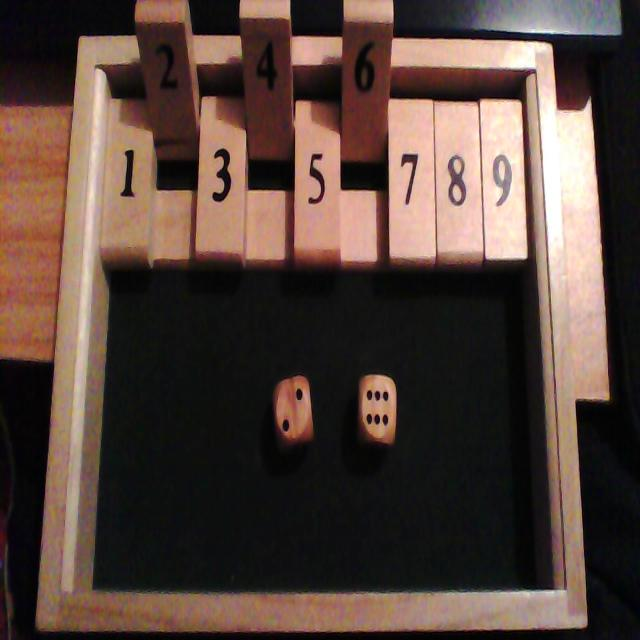2: (268, 368, 316, 450)
6: (355, 370, 399, 452)
C1: (101, 36, 150, 268)
C3: (196, 36, 242, 270)
C5: (297, 37, 341, 269)
C7: (392, 38, 438, 269)
C8: (435, 38, 484, 270)
C9: (479, 40, 530, 271)
O2: (135, 1, 197, 260)
O4: (239, 1, 291, 261)
O6: (342, 0, 392, 261)
